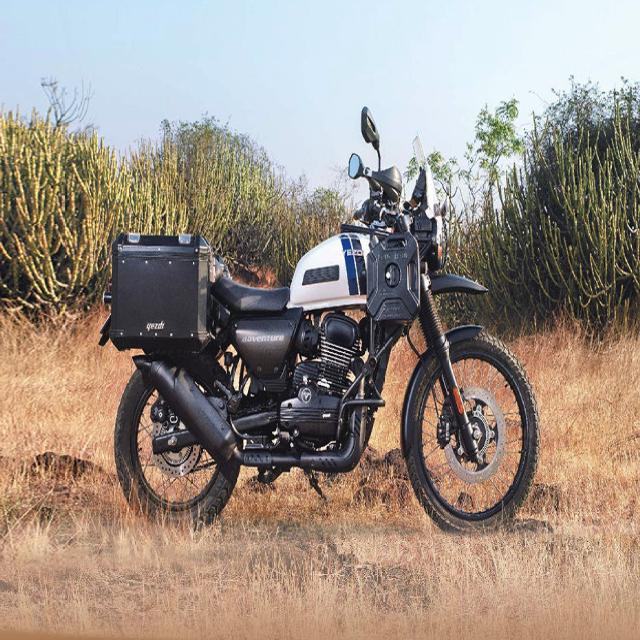motorcycle: (100, 109, 539, 530)
